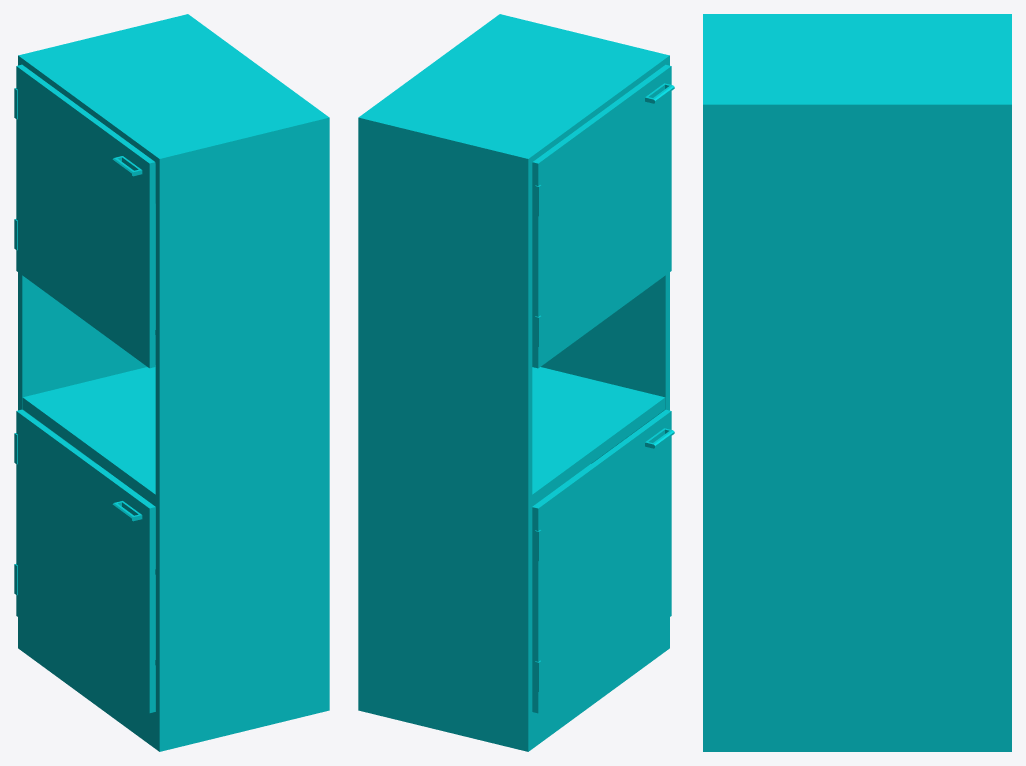
The model's file is Cabinet.fbx.
3 renders of one model, left to right at view 1: azimuth 30°, elevation 25°; view 2: azimuth 150°, elevation 25°; view 3: azimuth 270°, elevation 25°, orthographic. The views are drawn at different scales.
Parts seen in each view (by area): view 1: SM_Shelf_; view 2: SM_Shelf_; view 3: SM_Shelf_.
Part boxes in pixels (box(x1,y1,x2,y2)): SM_Shelf_: box(14, 14, 329, 751); SM_Shelf_: box(358, 14, 674, 751); SM_Shelf_: box(703, 14, 1011, 751).
Bounding box in the file's own units: 0.7867 × 2.39 × 1.04.
